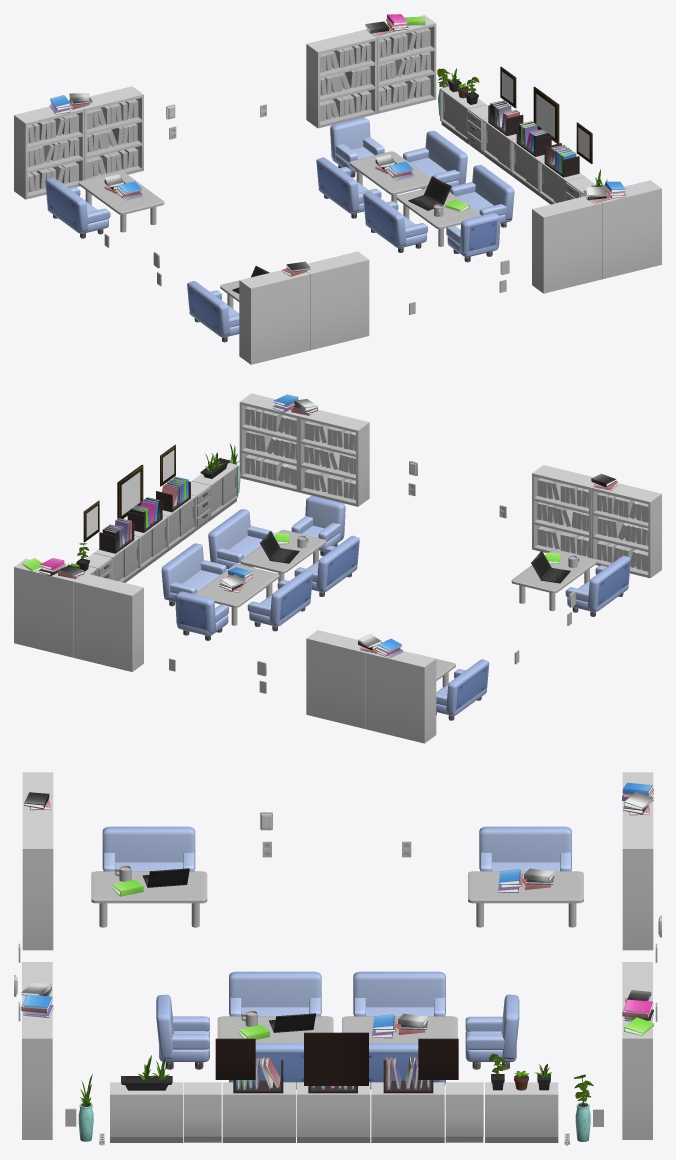
Rendered from Room03Set2.FBX.
3 views of the same model, one above another, from view 1: azimuth 30°, elevation 25°; view 2: azimuth 150°, elevation 25°; view 3: azimuth 270°, elevation 25° (orthographic). The views are drawn at different scales.
Parts seen in each view (by area): view 1: bookshelf034, bookshelf038, bookshelf039, bookshelf035, bookshelf037, bookshelf041, Books013, Books017, Books014, Books018, bookshelf040, bookshelf036 (+17 smaller); view 2: bookshelf037, bookshelf041, bookshelf040, bookshelf036, bookshelf034, bookshelf038, Books011, Books016, Books012, Books015, bookshelf035, bookshelf039 (+17 smaller); view 3: bookshelf039, bookshelf040, chestbox049, ChamferBox020, ChamferBox029, chestbox052, ChamferBox027, ChamferBox023, chestbox047, chestbox050, chestbox053, bookshelf035 (+23 smaller).
Part boxes in pixels (x1=…): bookshelf034: x1=532, y1=196, x2=602, y2=293; bookshelf038: x1=239, y1=270, x2=309, y2=364; bookshelf039: x1=307, y1=251, x2=369, y2=350; bookshelf035: x1=601, y1=180, x2=661, y2=278; bookshelf037: x1=306, y1=29, x2=376, y2=128; bookshelf041: x1=14, y1=106, x2=84, y2=199; Books013: x1=379, y1=28, x2=430, y2=107; Books017: x1=87, y1=99, x2=138, y2=178; Books014: x1=320, y1=42, x2=371, y2=121; Books018: x1=27, y1=114, x2=79, y2=192; bookshelf040: x1=82, y1=86, x2=143, y2=179; bookshelf036: x1=366, y1=15, x2=436, y2=113; bookshelf037: x1=73, y1=573, x2=143, y2=671; bookshelf041: x1=365, y1=651, x2=436, y2=743; bookshelf040: x1=306, y1=630, x2=366, y2=728; bookshelf036: x1=14, y1=558, x2=82, y2=657; bookshelf034: x1=299, y1=409, x2=369, y2=506; bookshelf038: x1=591, y1=483, x2=661, y2=578; Books011: x1=304, y1=421, x2=355, y2=500; Books016: x1=537, y1=478, x2=588, y2=557; Books012: x1=245, y1=406, x2=296, y2=485; Books015: x1=597, y1=492, x2=648, y2=571; bookshelf035: x1=239, y1=393, x2=301, y2=492; bookshelf039: x1=532, y1=465, x2=594, y2=557; bookshelf039: x1=22, y1=810, x2=53, y2=950; bookshelf040: x1=622, y1=810, x2=653, y2=950; chestbox049: x1=485, y1=1082, x2=558, y2=1142; ChamferBox020: x1=353, y1=971, x2=445, y2=1016; ChamferBox029: x1=479, y1=826, x2=571, y2=871; chestbox052: x1=110, y1=1082, x2=183, y2=1142; ChamferBox027: x1=102, y1=826, x2=195, y2=871; ChamferBox023: x1=229, y1=971, x2=321, y2=1016; chestbox047: x1=371, y1=1082, x2=444, y2=1142; chestbox050: x1=222, y1=1082, x2=295, y2=1142; chestbox053: x1=296, y1=1082, x2=370, y2=1142; bookshelf035: x1=22, y1=1000, x2=52, y2=1139.
Size of the model in its own units: 119 by 24.28 by 120.
